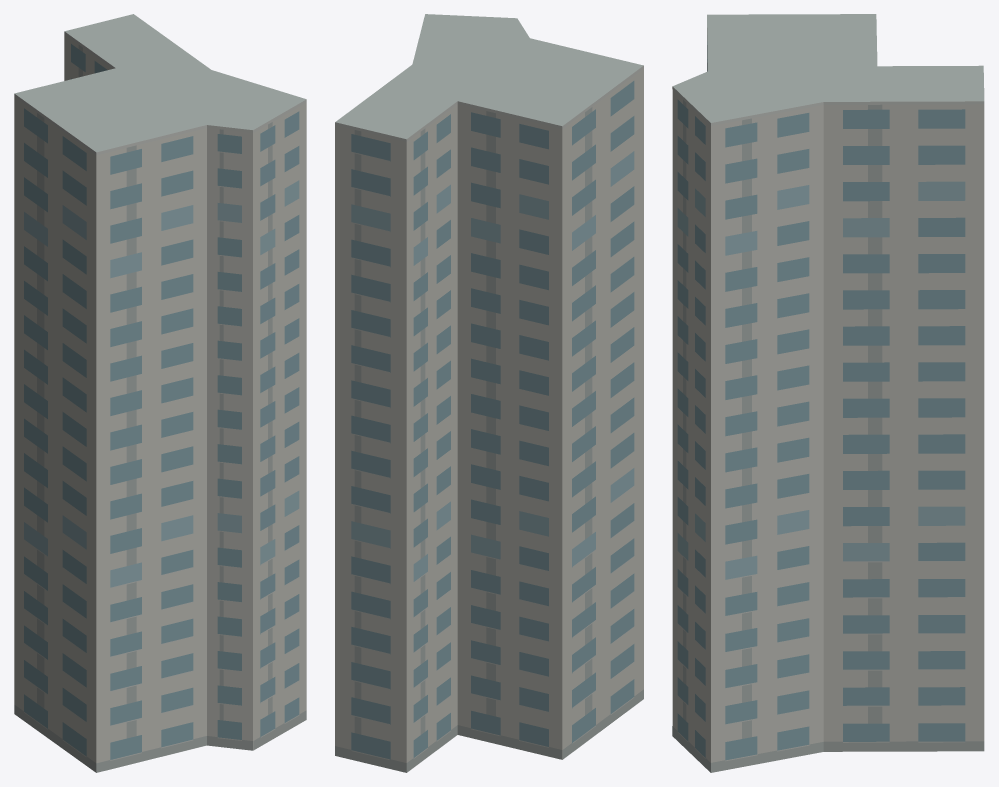
File: residential-efc9bbcd-a0ff-44af-9607-5a00c1b548ee.glb
The picture shows the model from 3 angles, left to right: view 1: azimuth 30°, elevation 25°; view 2: azimuth 150°, elevation 25°; view 3: azimuth 270°, elevation 25°; orthographic projection. The views are drawn at different scales.
Parts seen in each view (by area): view 1: residential-efc9bbcd-a0ff-44af-9607-5a00c1b548ee.tmp; view 2: residential-efc9bbcd-a0ff-44af-9607-5a00c1b548ee.tmp; view 3: residential-efc9bbcd-a0ff-44af-9607-5a00c1b548ee.tmp.
Part boxes in pixels (<box>): residential-efc9bbcd-a0ff-44af-9607-5a00c1b548ee.tmp: <box>14,14,306,772</box>; residential-efc9bbcd-a0ff-44af-9607-5a00c1b548ee.tmp: <box>335,14,643,772</box>; residential-efc9bbcd-a0ff-44af-9607-5a00c1b548ee.tmp: <box>672,14,984,772</box>.
Bounding box in the file's own units: 18.73 × 52 × 22.63.
